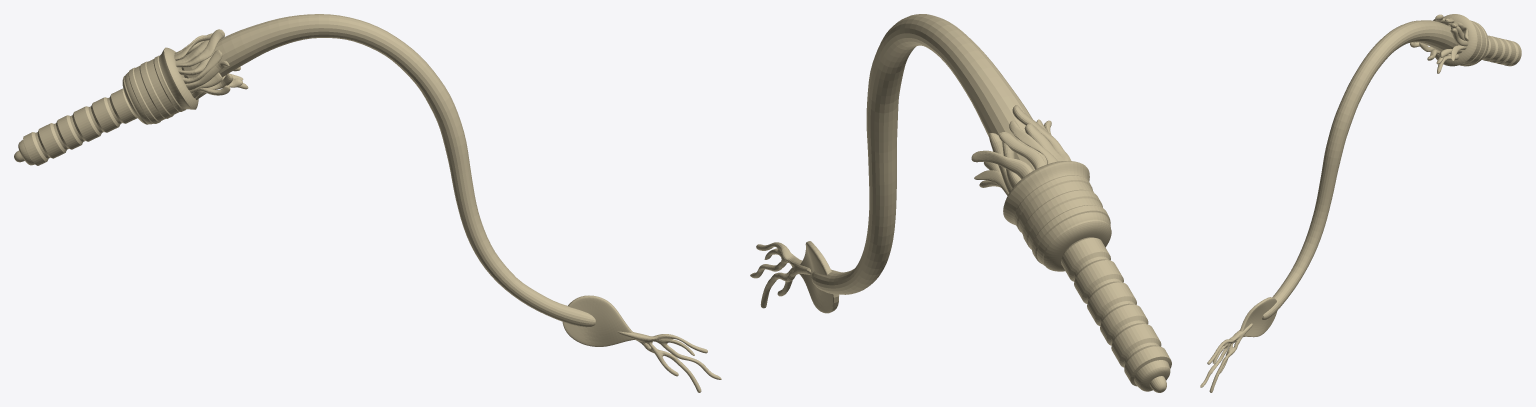
Rendered from COSSACK_WHIP_2#30.glb.
The picture shows the model from 3 angles, left to right: view 1: azimuth 30°, elevation 25°; view 2: azimuth 150°, elevation 25°; view 3: azimuth 270°, elevation 25°; orthographic projection. The views are drawn at different scales.
Visible parts, largest first — view 1: Plet2-Material.004, Plet2-Material.006, Plet2-Material.001, Plet2-Material.005, Plet2-Material.002, Plet2-Material.003; view 2: Plet2-Material.004, Plet2-Material.001, Plet2-Material.006, Plet2-Material.005, Plet2-Material.003, Plet2-Material.002; view 3: Plet2-Material.004, Plet2-Material.001, Plet2-Material.005, Plet2-Material.006, Plet2-Material.002, Plet2-Material.003.
Part boxes in pixels (bbox=[...]): Plet2-Material.004: bbox=[181, 14, 595, 327]; Plet2-Material.006: bbox=[18, 88, 137, 165]; Plet2-Material.001: bbox=[122, 47, 198, 124]; Plet2-Material.005: bbox=[174, 29, 248, 99]; Plet2-Material.002: bbox=[562, 295, 634, 346]; Plet2-Material.003: bbox=[617, 331, 721, 392]; Plet2-Material.004: bbox=[811, 14, 1047, 294]; Plet2-Material.001: bbox=[1003, 161, 1111, 271]; Plet2-Material.006: bbox=[1061, 237, 1171, 391]; Plet2-Material.005: bbox=[971, 105, 1071, 195]; Plet2-Material.003: bbox=[750, 242, 811, 308]; Plet2-Material.002: bbox=[799, 241, 839, 313]; Plet2-Material.004: bbox=[1262, 20, 1458, 319]; Plet2-Material.001: bbox=[1435, 14, 1488, 66]; Plet2-Material.005: bbox=[1410, 14, 1468, 73]; Plet2-Material.006: bbox=[1482, 35, 1521, 66]; Plet2-Material.002: bbox=[1240, 297, 1277, 337]; Plet2-Material.003: bbox=[1200, 323, 1252, 392].
Size of the model in its own units: 3.57 by 2.38 by 2.59.
